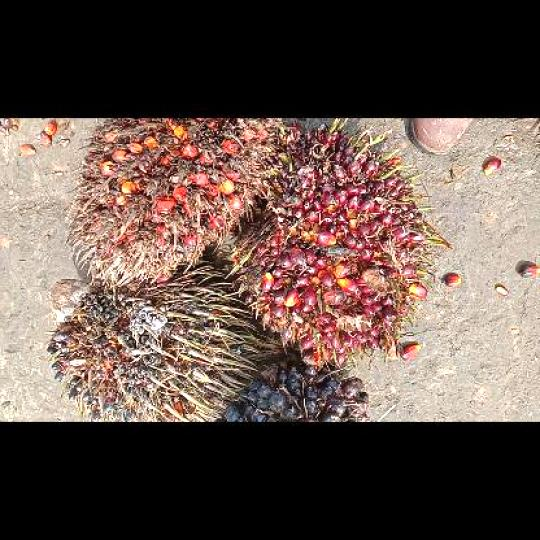masak: (230, 118, 440, 365)
terlalu masak: (68, 117, 277, 282)
